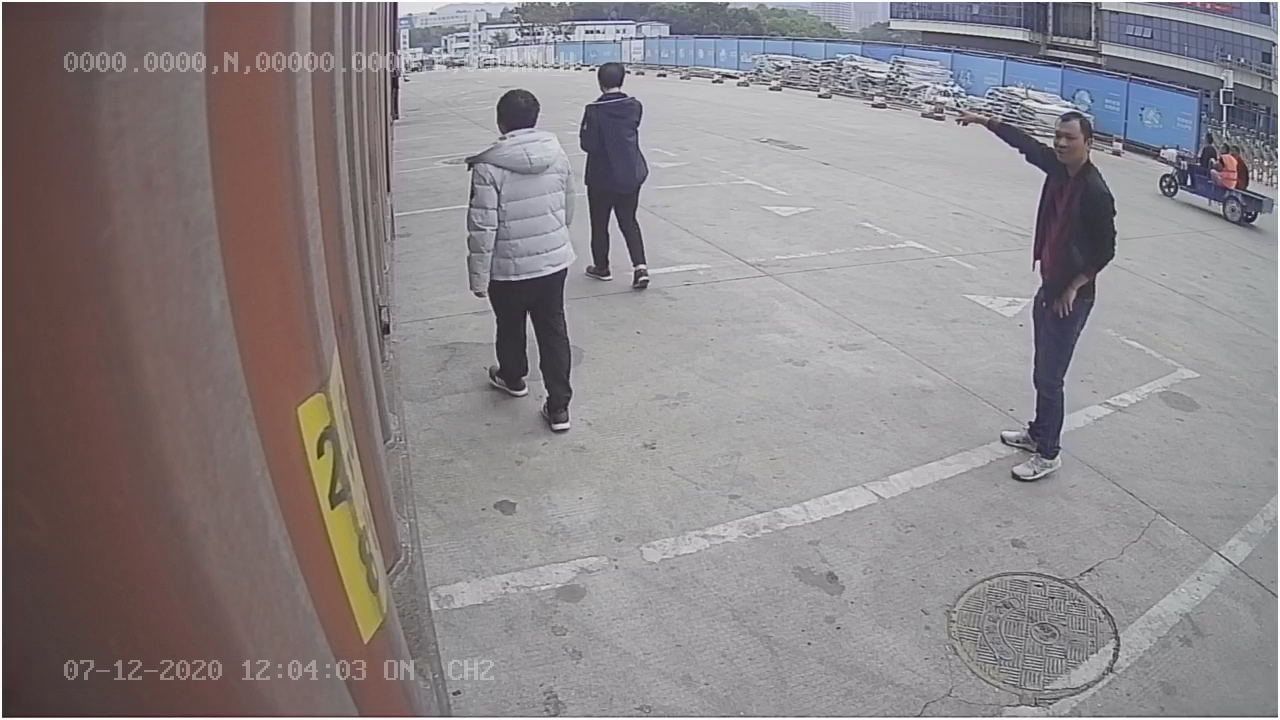person: (941, 93, 1116, 481), (457, 84, 579, 432)
